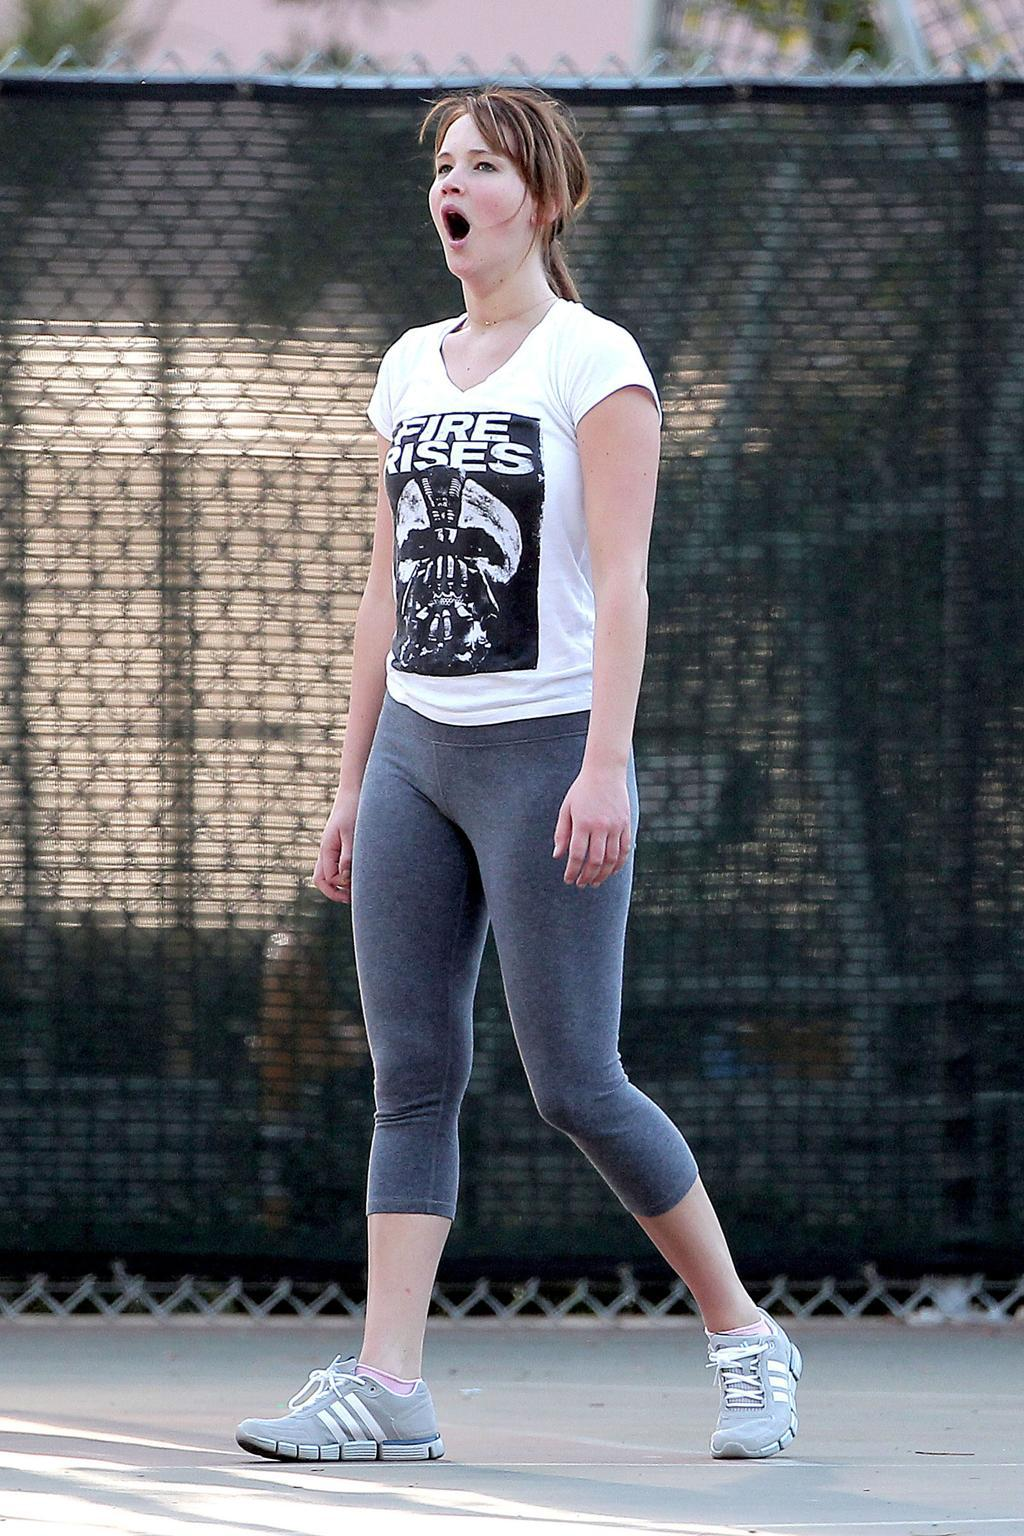face: (433, 100, 517, 280)
